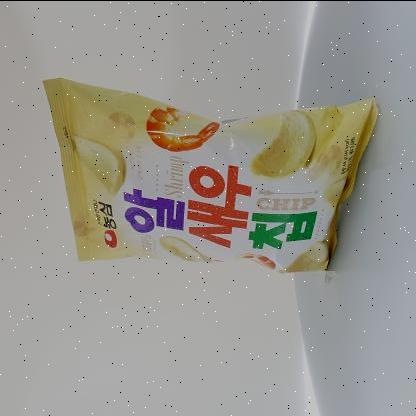Others: (35, 66, 388, 286)
